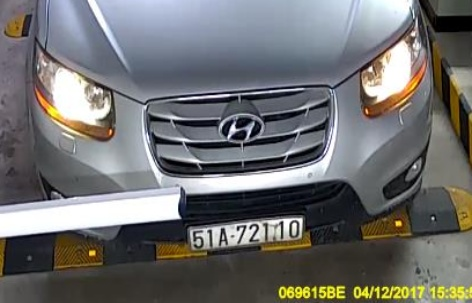plate: (188, 212, 311, 254)
